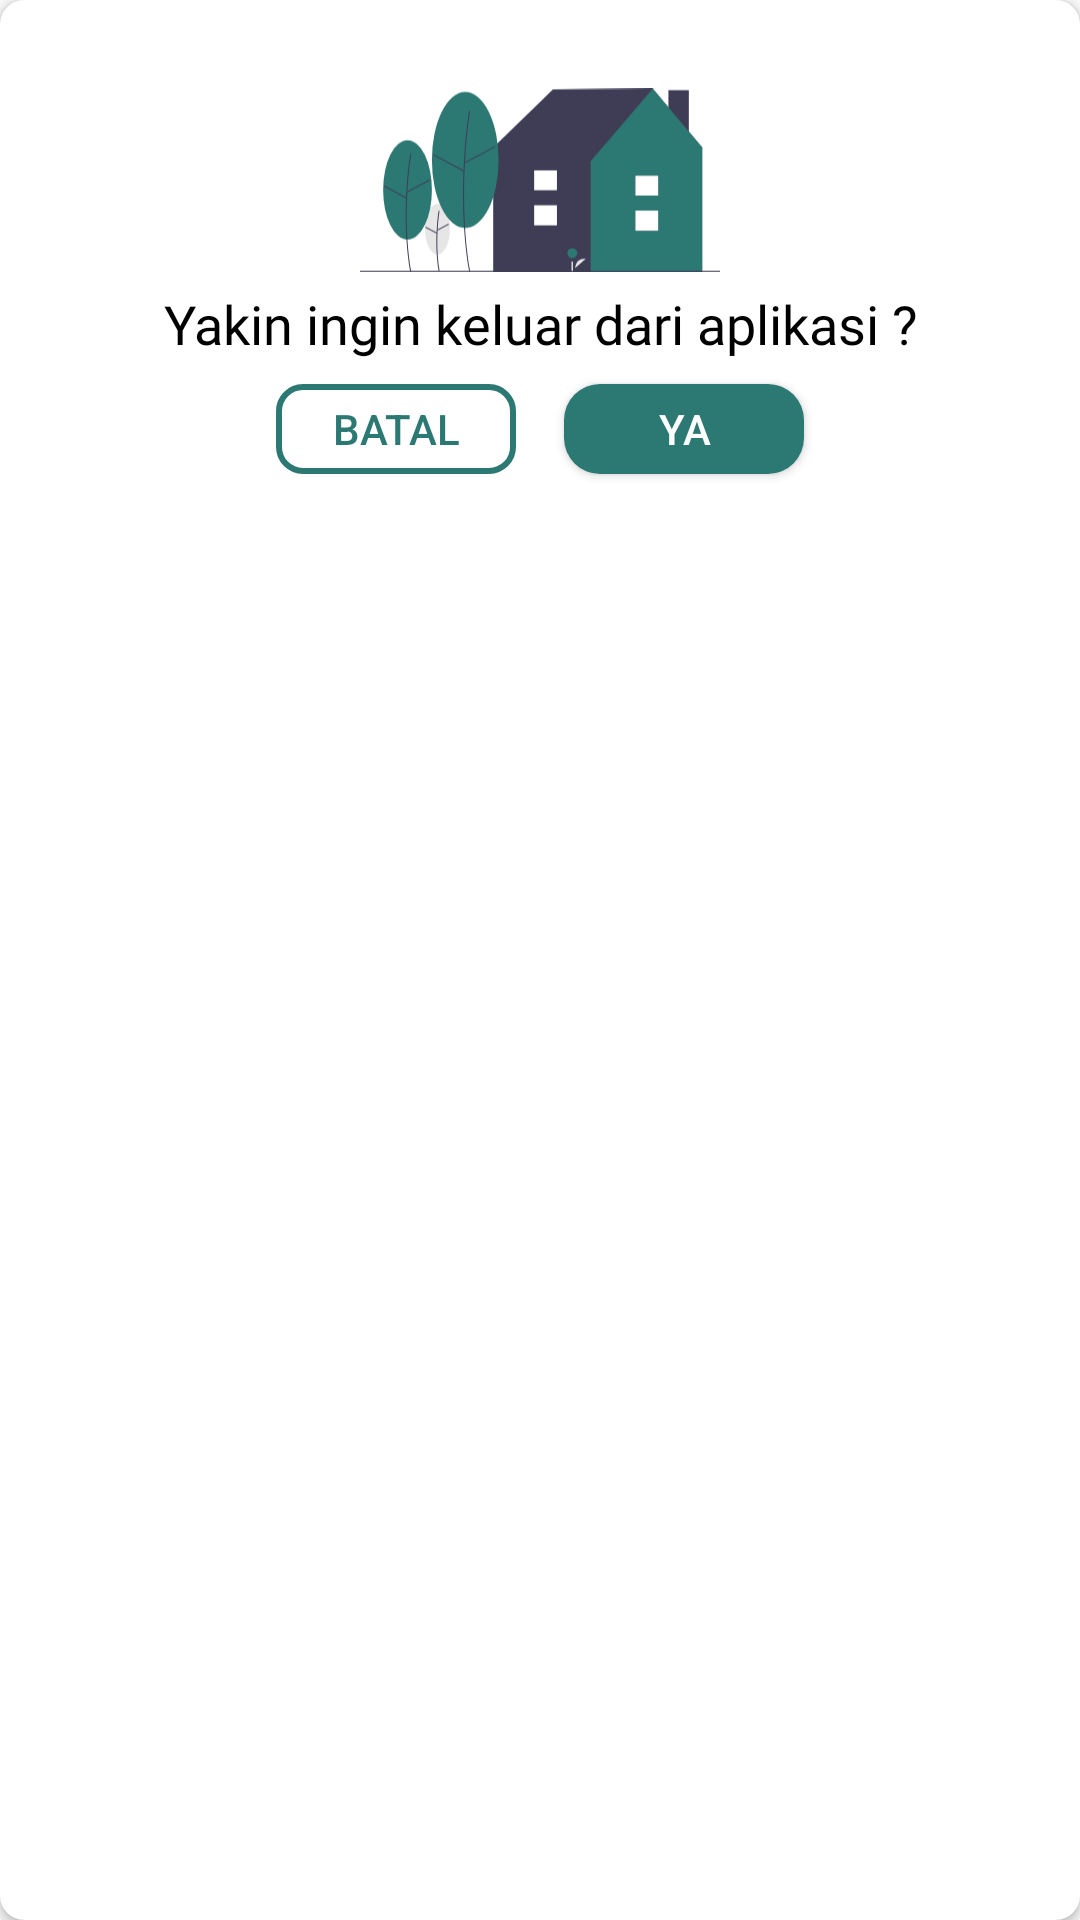

Where icons sit on this 1080x1920 app screen, as (x1, y1, x2, y2):
home: (360, 88, 720, 346)
